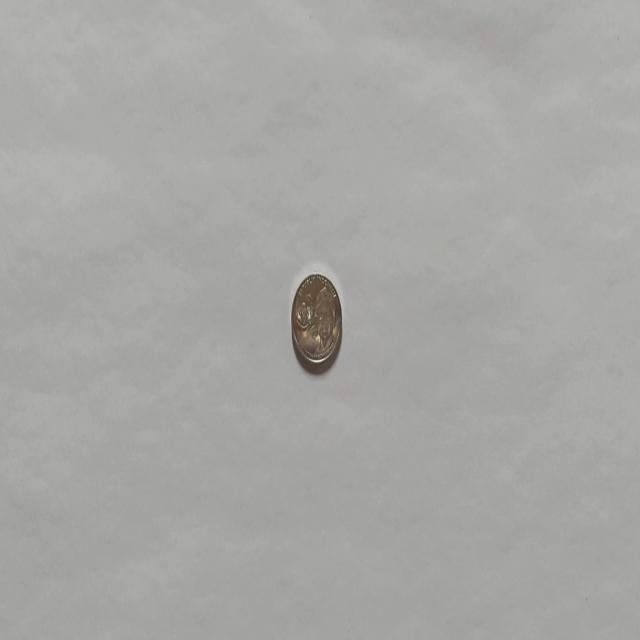dua ratus rupiah: (290, 271, 342, 368)
